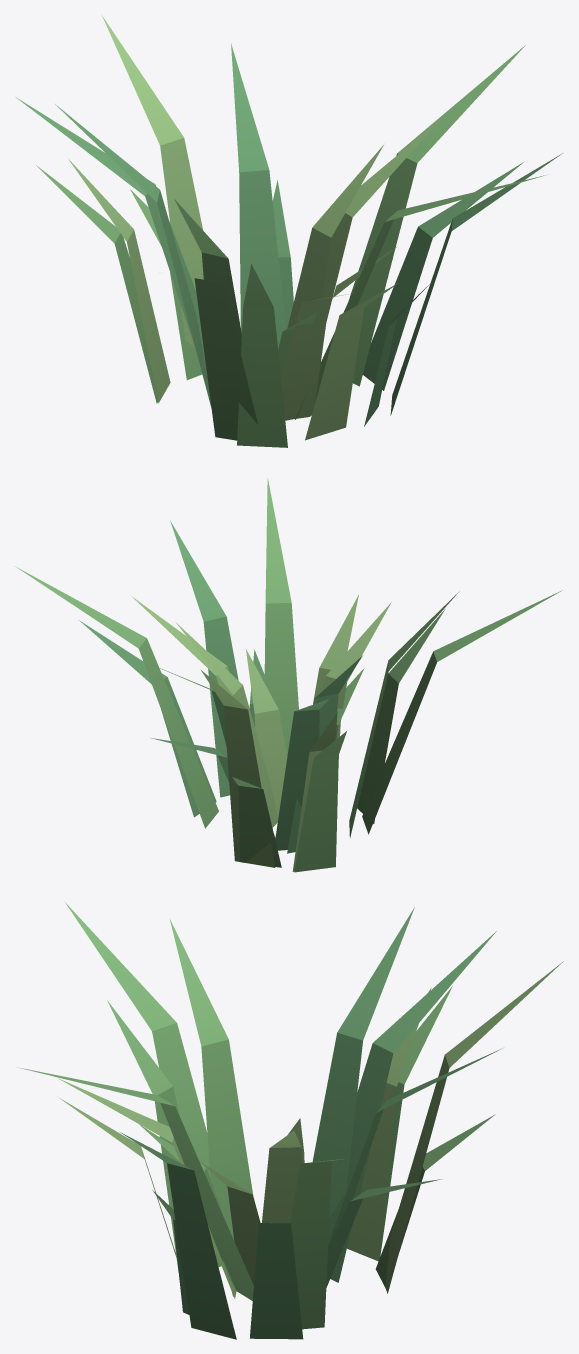
Rendered from gras_2.glb.
3 renders of one model, top to bottom at view 1: azimuth 30°, elevation 25°; view 2: azimuth 150°, elevation 25°; view 3: azimuth 270°, elevation 25°, orthographic. The views are drawn at different scales.
Visible parts, largest first — view 1: G_gras_2; view 2: G_gras_2; view 3: G_gras_2.
Boxes of the visible parts, <box> form: G_gras_2: <box>16,15,562,447</box>; G_gras_2: <box>15,478,562,872</box>; G_gras_2: <box>17,901,563,1339</box>.
Bounding box in the file's own units: 1.26 × 0.706 × 1.13.
